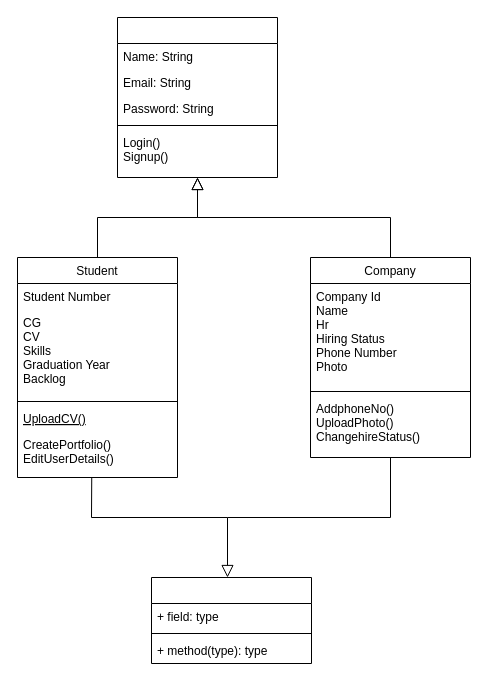
The diagram is 488 pixels wide and 684 high, and some of its shapes have lost their labels. Here are the shapes that lost their labels. From the top down, the box of each, then its label:
(116, 16, 278, 178): User
(150, 576, 312, 664): Internship
